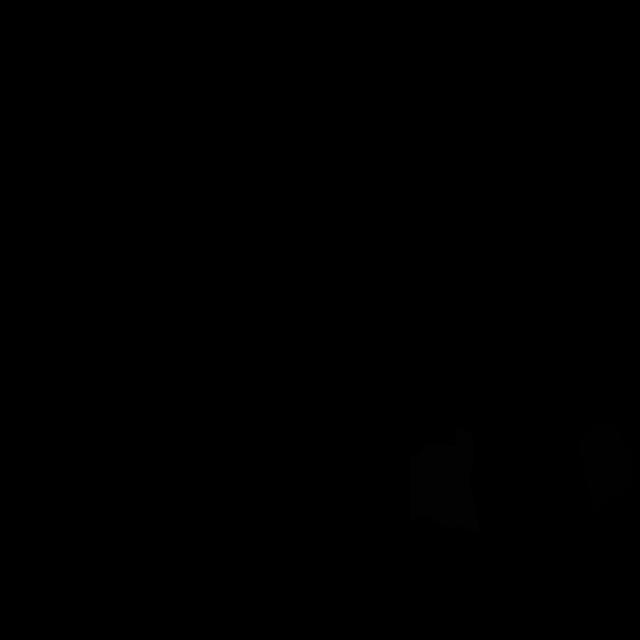cardboard: (410, 425, 481, 532)
rigid_plastic: (578, 421, 634, 515)
